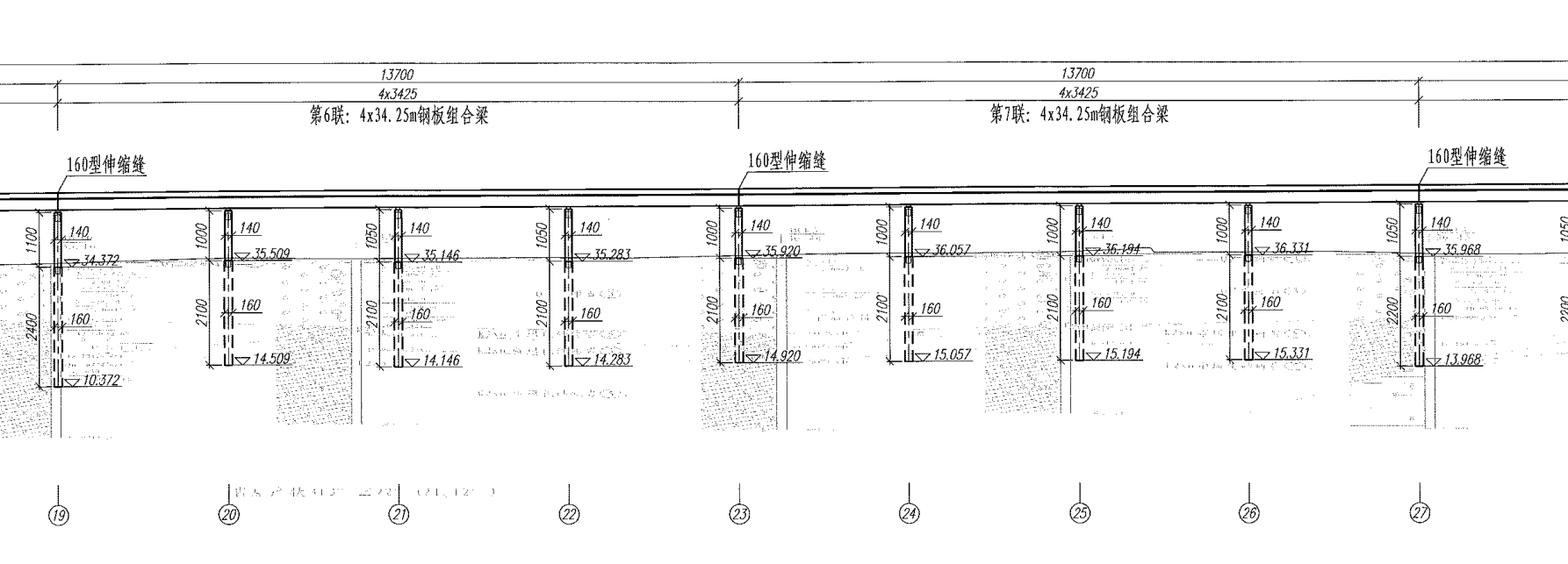B: (724, 65, 1438, 95), (52, 65, 774, 89)
C: (200, 196, 310, 530), (882, 196, 989, 530), (1394, 195, 1500, 528), (1054, 195, 1159, 529), (714, 196, 818, 529), (1225, 194, 1328, 530), (35, 198, 139, 529), (545, 196, 648, 529), (373, 197, 476, 529)
